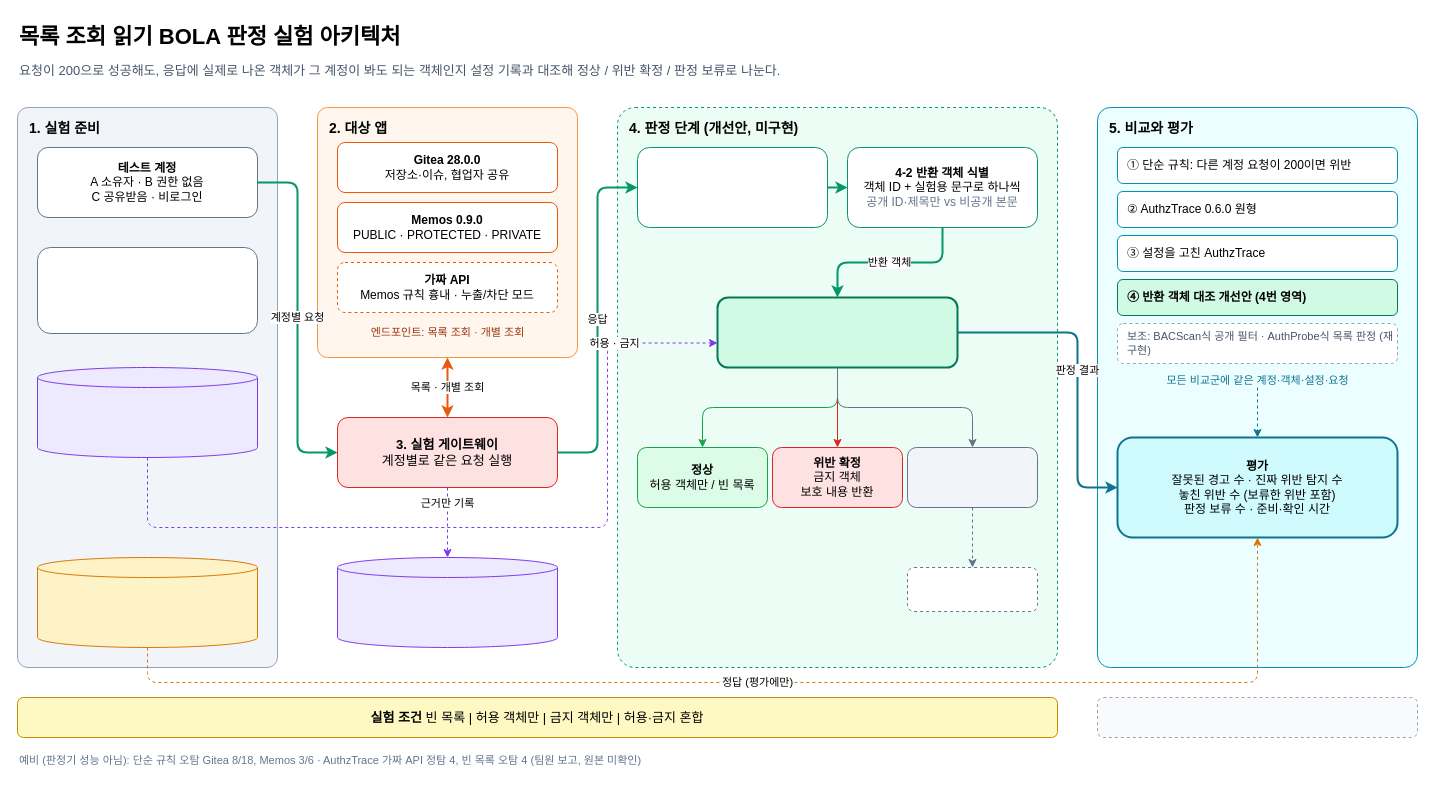
This 1435x788 diagram has some shape labels left out. Each missing label, with the centre of its shape:
"4-1 응답 확인 정상 응답인가, 오류로 빈 목록인가" belongs at [732,187].
"4-3 설정과 대조 이 계정이 이 객체를 봐도 되는가" belongs at [837,332].
"범위 밖: 개인정보 점수화 · 권한 회수 진단" belongs at [1257,717].
"사람 확인 (사유 기록)" belongs at [972,589].
"설정 기록 객체 ID · 소유자 · 공개 범위 공유 대상 · 설정 시각" belongs at [147,412].
"최소 로그 응답 원문 대신 객체 ID · 표식 일치 · 상태 코드" belongs at [447,602].
"테스트 객체 전체 공개 · 로그인 공개 비공개 · 특정 계정 공유 비공개 본문에 실험용 문구" belongs at [147,290].
"판정 보류 설정 모름·변경 객체 확인 불가" belongs at [972,477].
"평가 정답 앱 정책 + 실제 설정을 따로 확인 판정기에는 주지 않음" belongs at [147,602].
